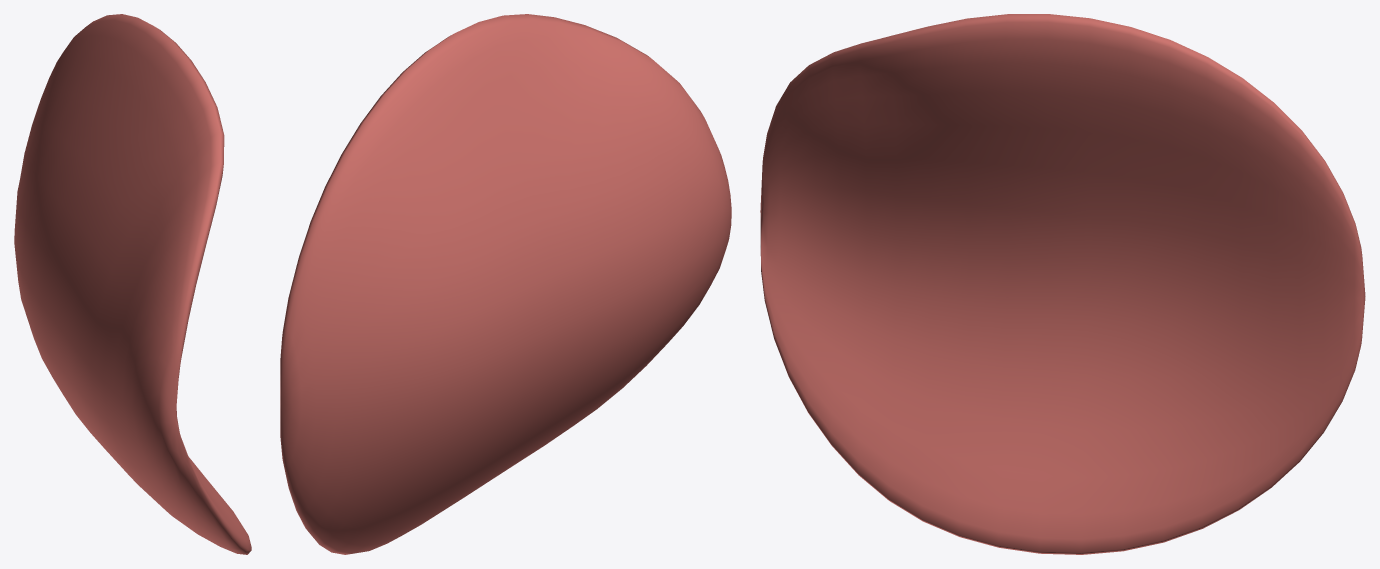
The picture shows the model from 3 angles, left to right: view 1: azimuth 30°, elevation 25°; view 2: azimuth 150°, elevation 25°; view 3: azimuth 270°, elevation 25°; orthographic projection. The views are drawn at different scales.
Parts seen in each view (by area): view 1: 右侧转子皮下囊; view 2: 右侧转子皮下囊; view 3: 右侧转子皮下囊.
Boxes of the visible parts, x1=… form: 右侧转子皮下囊: x1=14, y1=14, x2=251, y2=554; 右侧转子皮下囊: x1=280, y1=14, x2=731, y2=554; 右侧转子皮下囊: x1=760, y1=14, x2=1365, y2=554.
Bounding box in the file's own units: 0.0169 × 0.041 × 0.0433.
